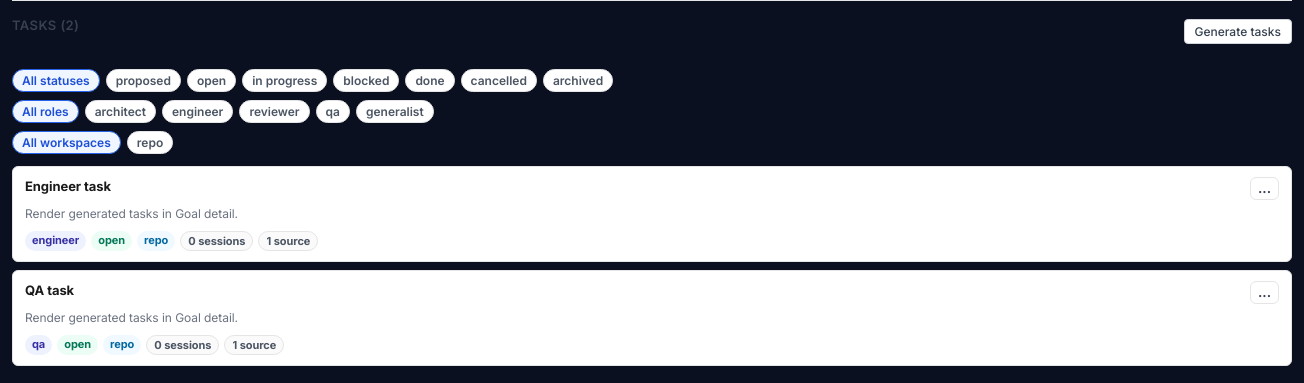
it: TasksPanel › filters by role chip
The width and height of the screenshot is (1304, 383).
Click the button "qa".
click(333, 112)  # box [316,100,350,123]
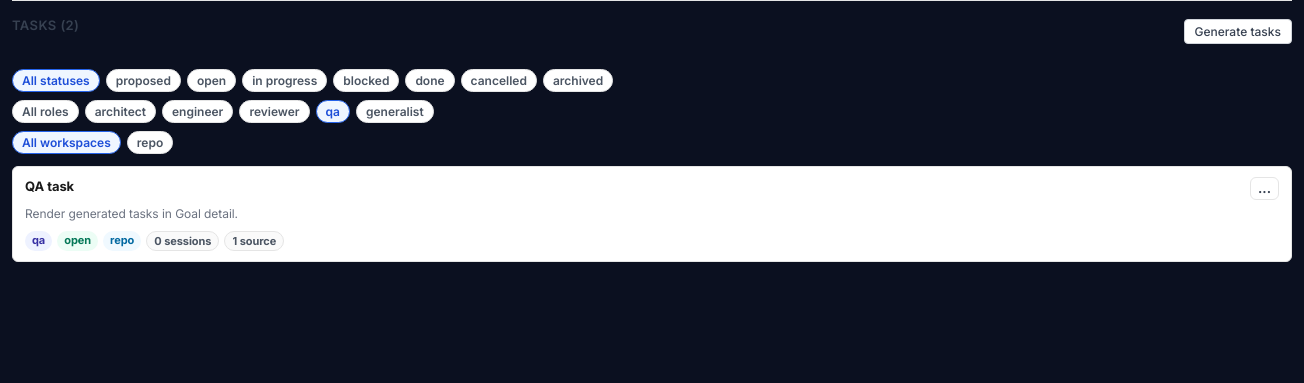
Expected: the text "QA task" is shown, [25,177,74,195]
Expected: the text "Engineer task" is gone
